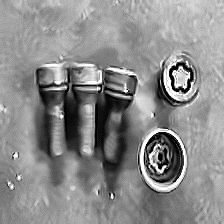defected: (3, 148, 29, 195), (90, 183, 120, 203), (147, 106, 162, 121)
